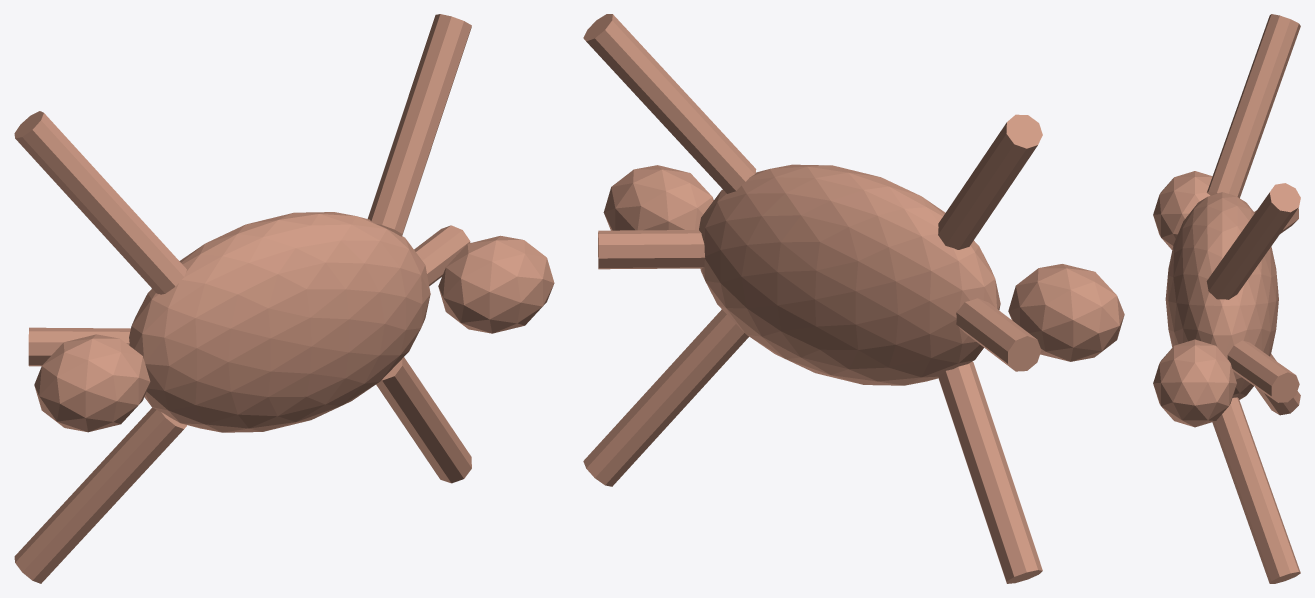
The model's file is crab.glb.
3 views of the same model, side by side, from view 1: azimuth 30°, elevation 25°; view 2: azimuth 150°, elevation 25°; view 3: azimuth 270°, elevation 25° (orthographic). The views are drawn at different scales.
Parts seen in each view (by area): view 1: world; view 2: world; view 3: world.
Part boxes in pixels (x1=…): world: x1=14, y1=14, x2=554, y2=583; world: x1=583, y1=14, x2=1124, y2=583; world: x1=1153, y1=14, x2=1300, y2=583.
Size of the model in its own units: 2.4 by 2.1 by 0.7044.
